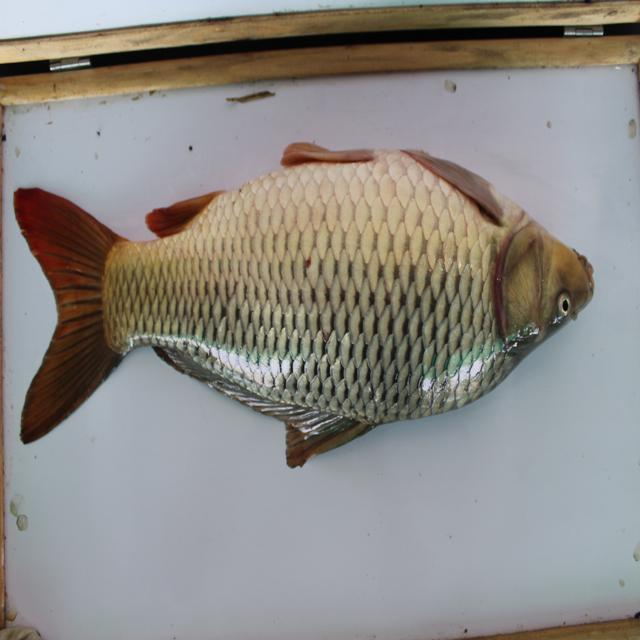CommonCarp: (10, 155, 615, 477)
